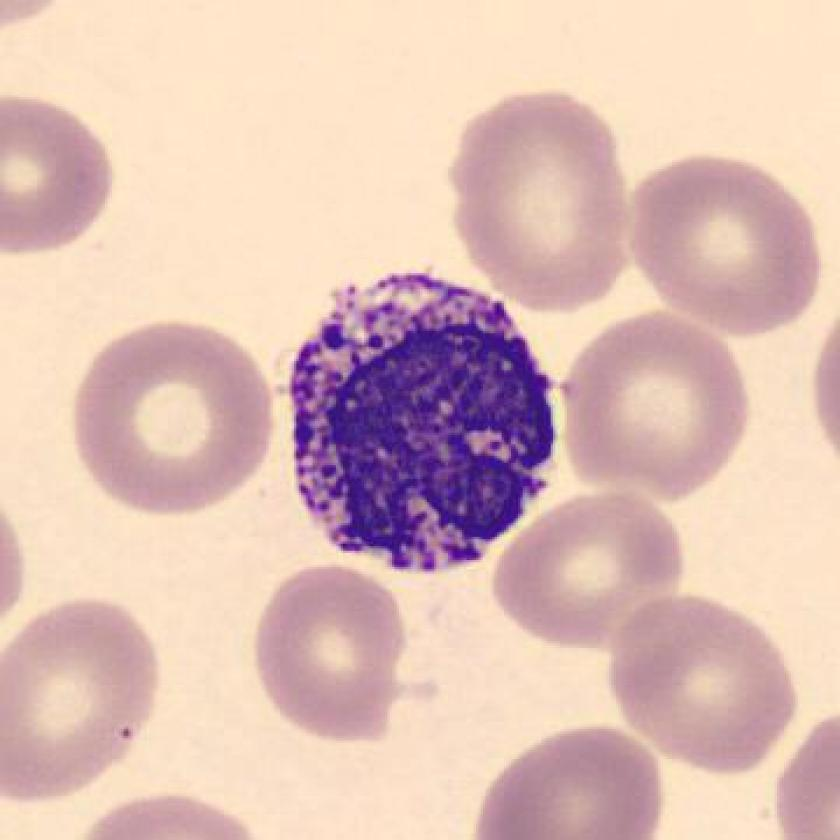basophil: (272, 256, 566, 594)
